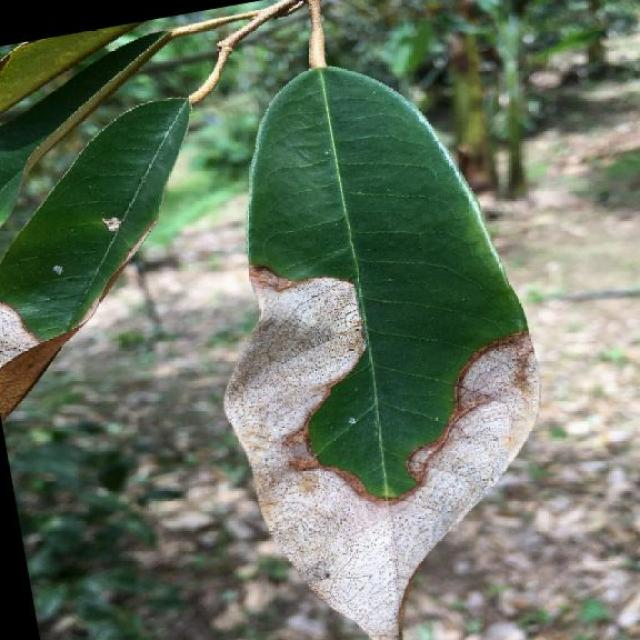Leaf Blight: (158, 29, 602, 640)
